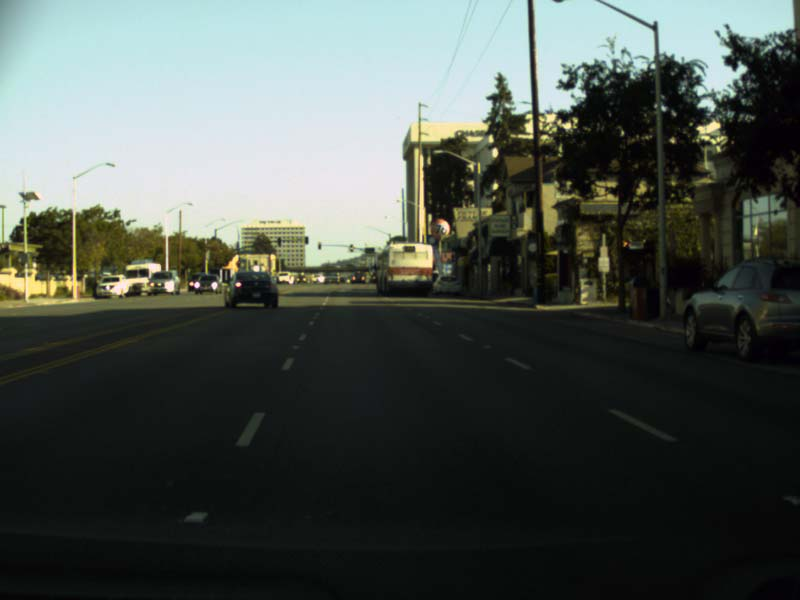Red: (318, 242, 321, 248)
Yellow: (350, 244, 353, 251)
